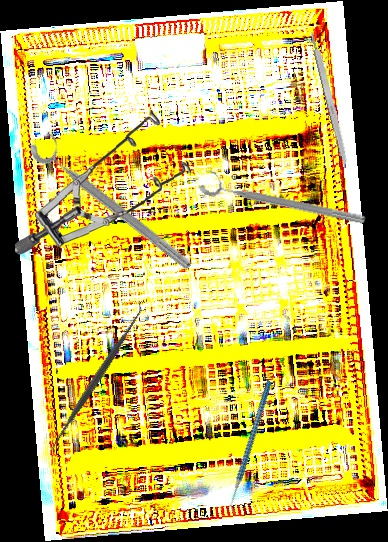Chopper: (190, 379, 314, 518)
Fixation Ring: (25, 126, 203, 276), (197, 167, 369, 229)
Scalpel Handle: (308, 30, 352, 169)
Spatula Surgical: (42, 300, 152, 455)
Speculum: (10, 107, 194, 256)
